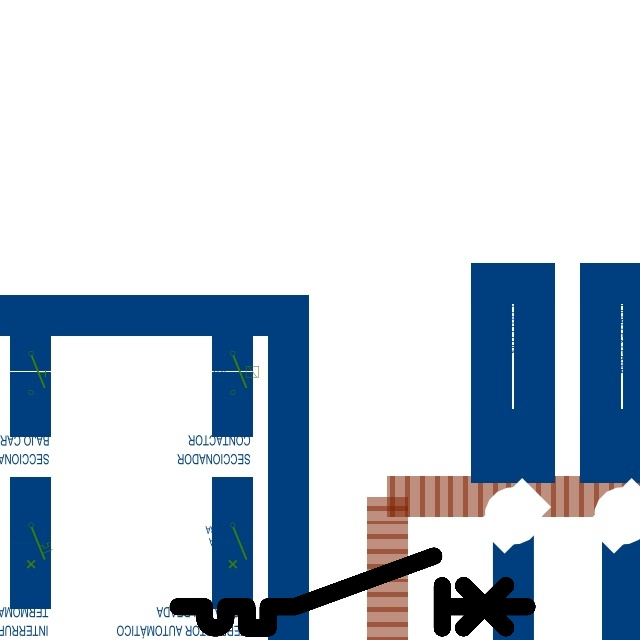interruptor_termomagnetico: (169, 547, 536, 637)
